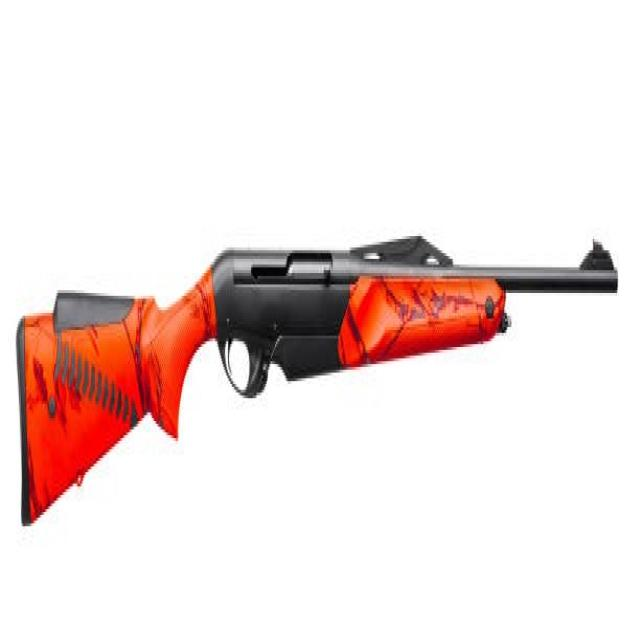rifle: (13, 204, 624, 549)
